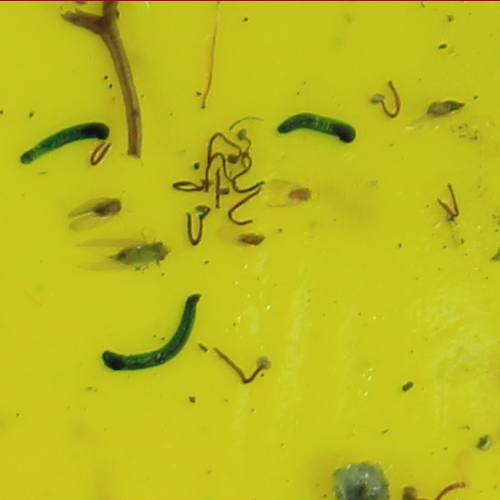Glycaspis: (111, 237, 177, 268)
Platyobria: (93, 197, 127, 216), (284, 185, 314, 204)
